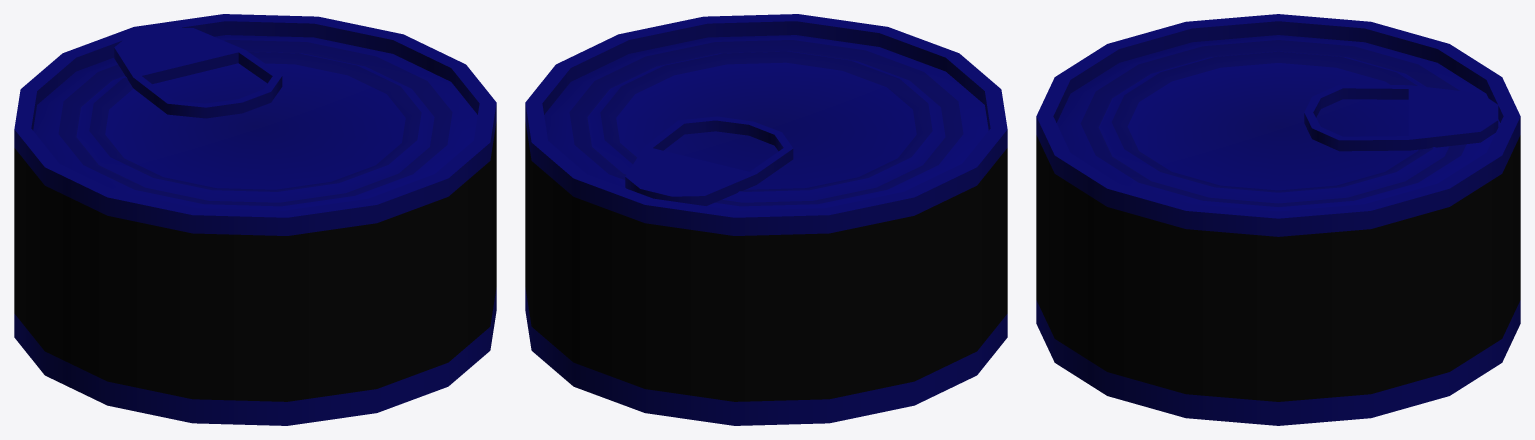
File: consumables-cannedfood-canoftuna_v1.fbx
3 views of the same model, side by side, from view 1: azimuth 30°, elevation 25°; view 2: azimuth 150°, elevation 25°; view 3: azimuth 270°, elevation 25° (orthographic).
Visible parts, largest first — view 1: CanOfTuna_refl, CanOfTuna_color; view 2: CanOfTuna_refl, CanOfTuna_color; view 3: CanOfTuna_refl, CanOfTuna_color.
Part boxes in pixels (x1=…): CanOfTuna_refl: x1=14, y1=14, x2=496, y2=425; CanOfTuna_color: x1=14, y1=122, x2=496, y2=401; CanOfTuna_refl: x1=525, y1=14, x2=1007, y2=425; CanOfTuna_color: x1=525, y1=122, x2=1007, y2=401; CanOfTuna_refl: x1=1036, y1=14, x2=1520, y2=425; CanOfTuna_color: x1=1036, y1=135, x2=1520, y2=401.
Size of the model in its own units: 0.1231 by 0.0592 by 0.1231.
